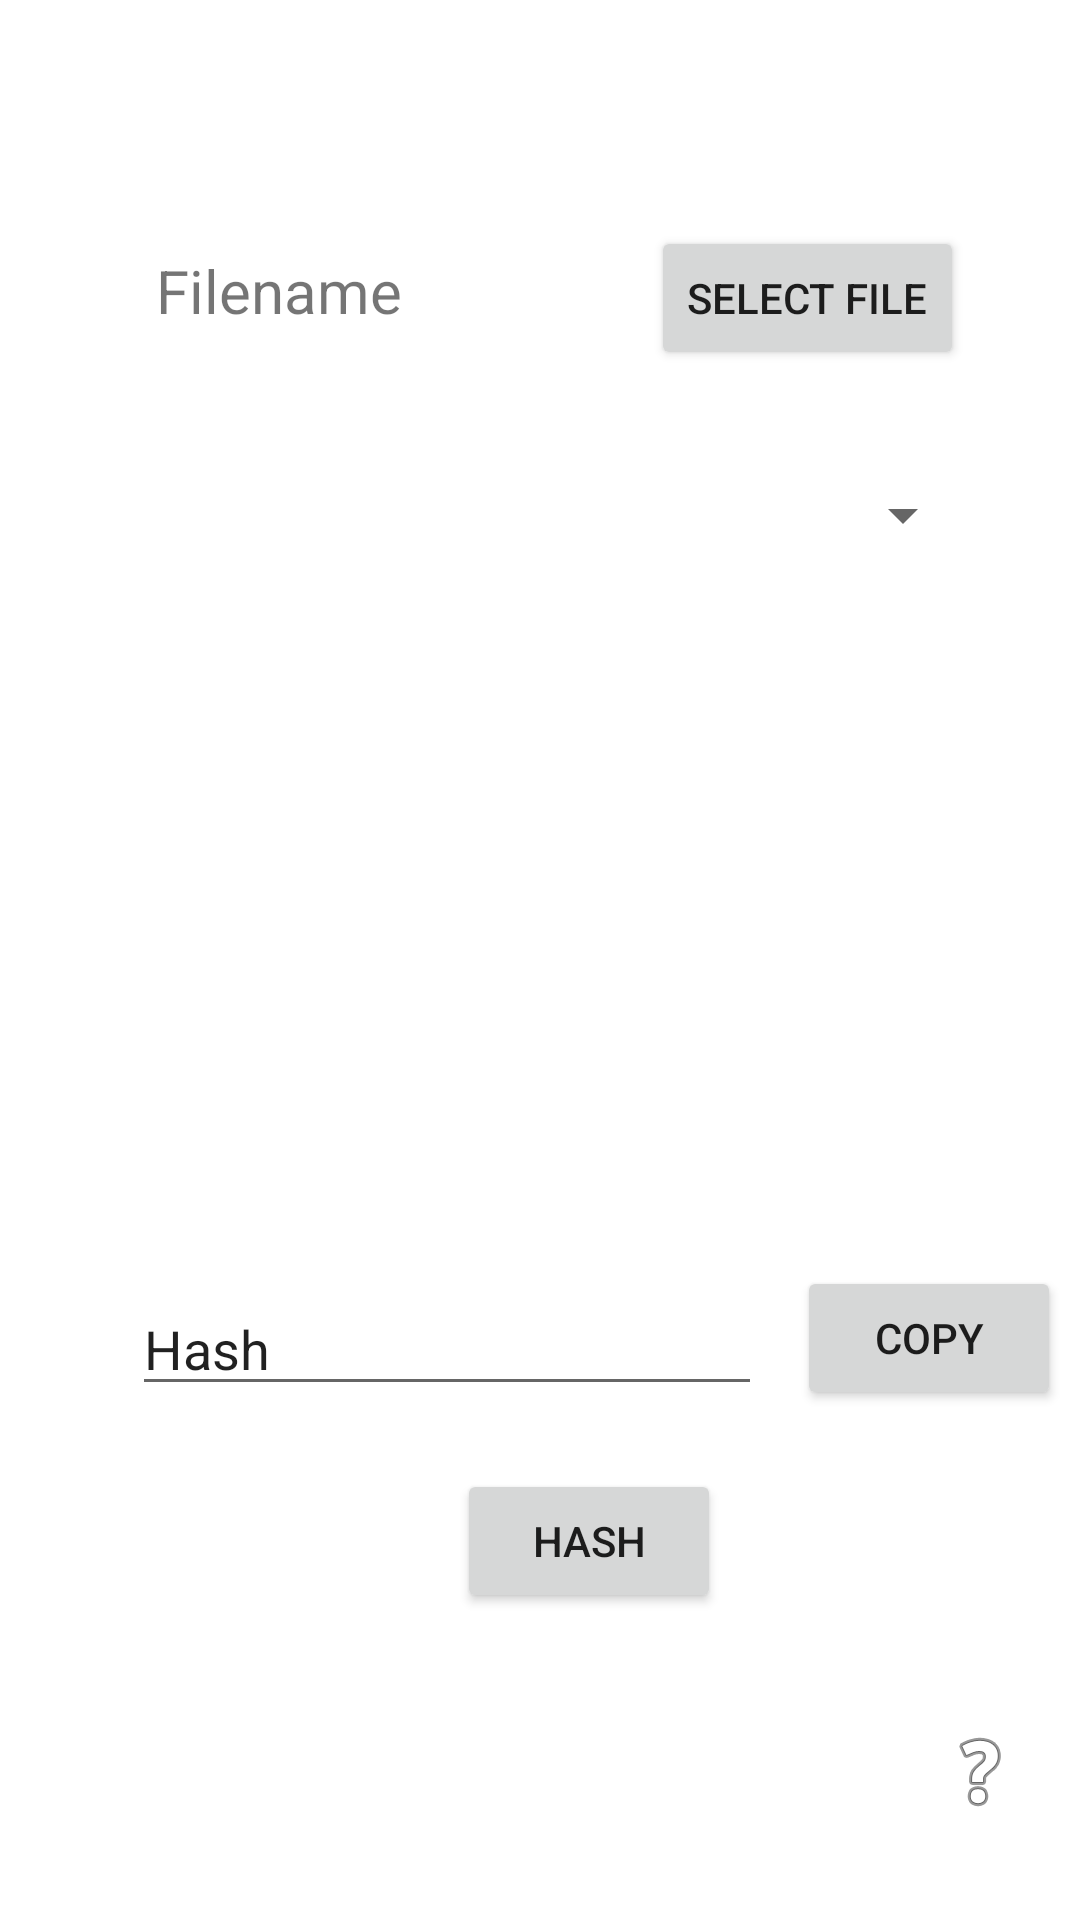

Named icons in this screenshot (1080px×1920px) and their bounding boxes, (x1, y1, x2, y2):
help: (959, 1738, 1001, 1806)
